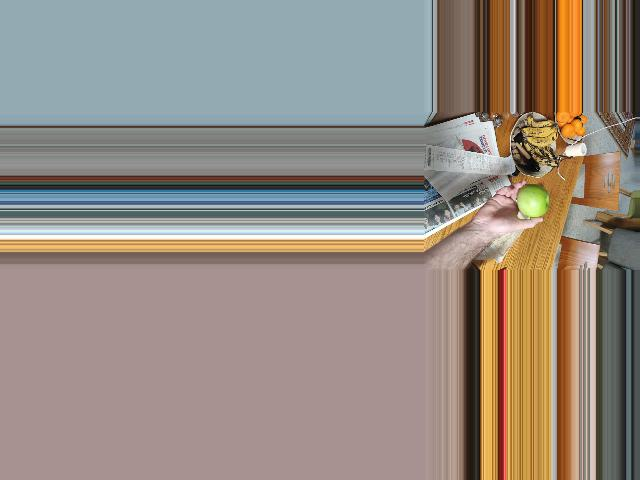apple: (514, 183, 552, 220)
